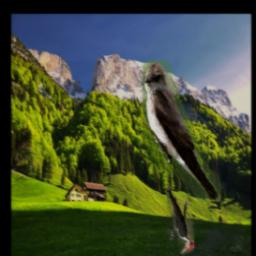Swallow: (143, 60, 221, 202)
Woodpecker: (168, 185, 195, 254)
